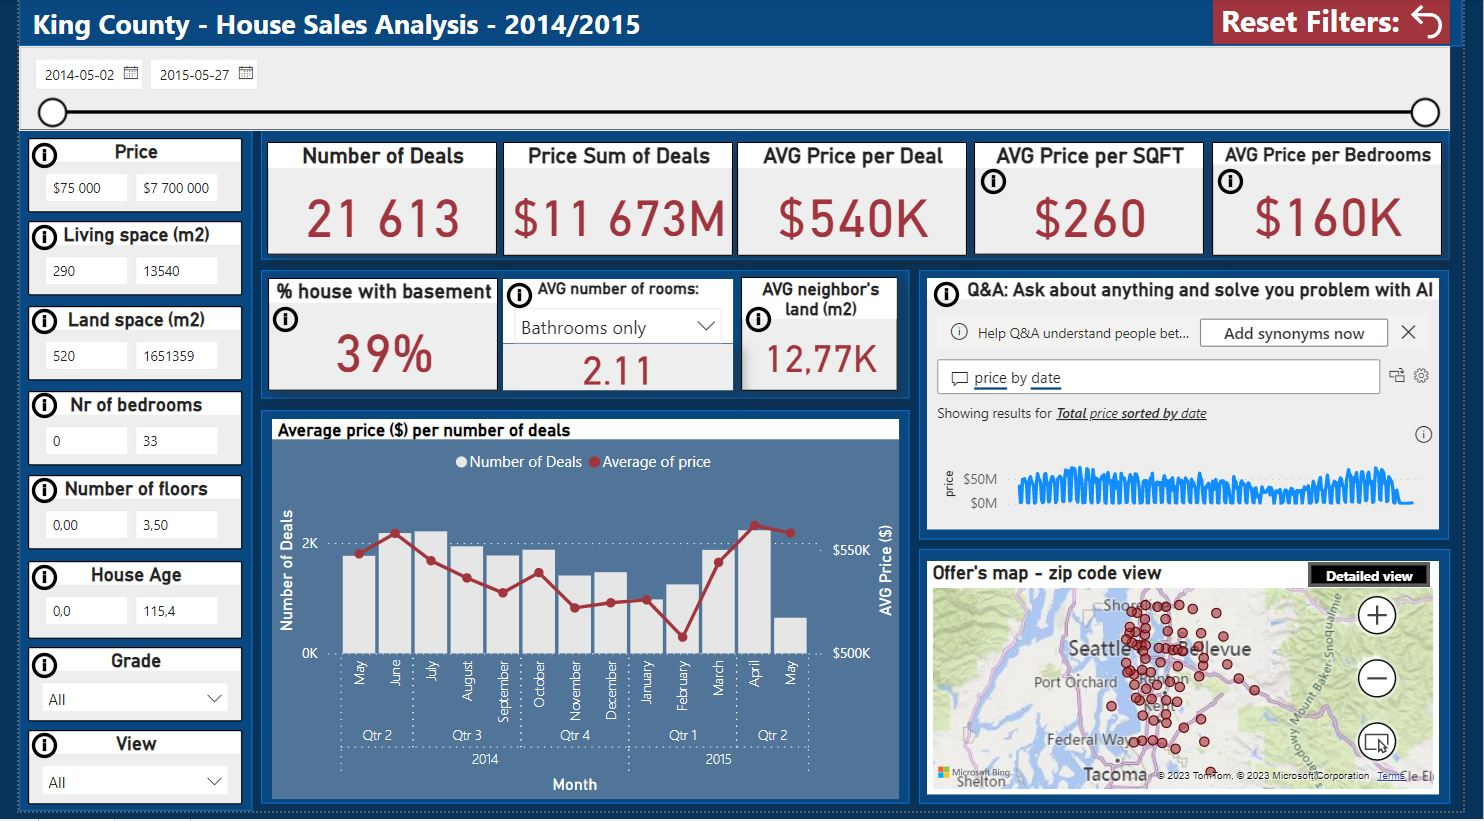

Layout of this report page (visuals, bound fields, positions):
{"tool":"powerbi","page":{"name":"Page 1","canvas":[1280,720],"ordinal":0},"visuals":[{"type":"group","id":"g1","title":"T1","box":[0,122.1,49.5,34.1],"z":0,"group":"g16"},{"type":"actionButton","box":[6.9,123.2,34.2,30.8],"z":0,"group":"g1"},{"type":"actionButton","box":[848.6,146,34.2,30.8],"z":0,"group":"g9"},{"type":"actionButton","box":[1058.3,146,34.2,30.8],"z":0,"group":"g10"},{"type":"actionButton","box":[6.9,195.8,34.2,30.8],"z":0,"group":"g2"},{"type":"actionButton","box":[806.9,245.8,34.2,30.8],"z":0,"group":"g14"},{"type":"actionButton","box":[427.9,247,34.2,30.8],"z":0,"group":"g13"},{"type":"actionButton","box":[220.8,268,34.2,30.8],"z":0,"group":"g11"},{"type":"actionButton","box":[640.2,268,34.2,30.8],"z":0,"group":"g12"},{"type":"actionButton","box":[6.9,270.1,34.2,30.8],"z":0,"group":"g3"},{"type":"actionButton","box":[6.9,345.1,34.2,30.8],"z":0,"group":"g4"},{"type":"actionButton","box":[6.9,420.1,34.2,30.8],"z":0,"group":"g5"},{"type":"shape","box":[797.7,487.2,470.5,225.9],"z":0},{"type":"actionButton","box":[6.9,497.1,34.2,30.8],"z":0,"group":"g6"},{"type":"map","title":"Offer''s map - zip code view","fields":{"Category":["_Main_DataSource.zipcode"]},"box":[805.5,498.1,453.8,207.3],"z":0,"group":"g15"},{"type":"actionButton","box":[6.9,575,34.2,30.8],"z":0,"group":"g7"},{"type":"actionButton","box":[6.9,646,34.2,30.8],"z":0,"group":"g8"},{"type":"card","fields":{"Values":["_Main_DataSource._sample_text"]},"box":[0,122.1,49.5,34.1],"z":1000,"group":"g1"},{"type":"card","fields":{"Values":["_Main_DataSource._sample_text"]},"box":[841.7,146,49.5,34.1],"z":1000,"group":"g9"},{"type":"card","fields":{"Values":["_Main_DataSource._sample_text"]},"box":[1051.4,146,49.5,34.1],"z":1000,"group":"g10"},{"type":"group","id":"g2","title":"T2","box":[0,194.7,49.5,34.1],"z":1000,"group":"g16"},{"type":"card","fields":{"Values":["_Main_DataSource._sample_text"]},"box":[0,194.7,49.5,34.1],"z":1000,"group":"g2"},{"type":"shape","box":[797.7,240.1,470.4,239],"z":1000},{"type":"card","fields":{"Values":["_Main_DataSource._sample_text"]},"box":[800,245.8,49.5,34.1],"z":1000,"group":"g14"},{"type":"card","fields":{"Values":["_Main_DataSource._sample_text"]},"box":[421,247,49.5,34.1],"z":1000,"group":"g13"},{"type":"card","fields":{"Values":["_Main_DataSource._sample_text"]},"box":[213.9,268,49.5,34.1],"z":1000,"group":"g11"},{"type":"card","fields":{"Values":["_Main_DataSource._sample_text"]},"box":[633.3,268,49.5,34.1],"z":1000,"group":"g12"},{"type":"card","fields":{"Values":["_Main_DataSource._sample_text"]},"box":[0,269,49.5,34.1],"z":1000,"group":"g3"},{"type":"card","fields":{"Values":["_Main_DataSource._sample_text"]},"box":[0,344,49.5,34.1],"z":1000,"group":"g4"},{"type":"card","fields":{"Values":["_Main_DataSource._sample_text"]},"box":[0,419,49.5,34.1],"z":1000,"group":"g5"},{"type":"card","fields":{"Values":["_Main_DataSource._sample_text"]},"box":[0,496,49.5,34.1],"z":1000,"group":"g6"},{"type":"actionButton","box":[1143.1,498.6,108.4,21.7],"z":1000,"group":"g15"},{"type":"card","fields":{"Values":["_Main_DataSource._sample_text"]},"box":[0,575,49.5,34.1],"z":1000,"group":"g7"},{"type":"card","fields":{"Values":["_Main_DataSource._sample_text"]},"box":[0,646,49.5,34.1],"z":1000,"group":"g8"},{"type":"shape","box":[214.2,240.1,574.9,114.1],"z":2000},{"type":"group","id":"g3","title":"T3","box":[0,269,49.5,34.1],"z":2000,"group":"g16"},{"type":"group","id":"g4","title":"T4","box":[0,344,49.5,34.1],"z":3000,"group":"g16"},{"type":"shape","box":[214.2,364.5,574.7,348.7],"z":3000},{"type":"shape","box":[214.2,115.9,1054.1,114.9],"z":4000},{"type":"group","id":"g5","title":"T5","box":[0,419,50,33.3],"z":4000,"group":"g16"},{"type":"shape","box":[0,116.3,207.3,603.6],"z":5000},{"type":"group","id":"g6","title":"T6","box":[0,496,50,33.3],"z":5000,"group":"g16"},{"type":"shape","title":"r","box":[0,0,1280,41.8],"z":6000},{"type":"group","id":"g7","title":"T7","box":[0,575,49.5,34.1],"z":6000,"group":"g16"},{"type":"slicer","fields":{"Values":["_Main_DataSource.date"]},"box":[0,41.7,1268.8,75],"z":7000},{"type":"group","id":"g8","title":"T8","box":[0,646,49.5,34.1],"z":7000,"group":"g16"},{"type":"group","id":"g9","title":"T9","box":[841.7,146,50,34.7],"z":8000,"group":"g16"},{"type":"slicer","title":"House Age","fields":{"Values":["_Main_DataSource.house_age"]},"box":[8.1,498.1,190.1,68.8],"z":8000},{"type":"group","id":"g10","title":"T10","box":[1051.4,146,50,34.7],"z":9000,"group":"g16"},{"type":"slicer","title":"View","fields":{"Values":["_Main_DataSource.view"]},"box":[8.1,647.7,190.1,65.7],"z":9000},{"type":"slicer","title":"Living space (m2)","fields":{"Values":["_Main_DataSource.sqft_living"]},"box":[8.1,197.2,190.1,65.7],"z":10000},{"type":"group","id":"g11","title":"T11","box":[213.9,268,50,34.7],"z":10000,"group":"g16"},{"type":"slicer","title":"Price","fields":{"Values":["_Main_DataSource.price"]},"box":[8.1,123.3,190.1,65.7],"z":11000},{"type":"group","id":"g12","title":"T12","box":[633.3,268,50,34.7],"z":11000,"group":"g16"},{"type":"group","id":"g13","title":"T13","box":[421,247,50,34.7],"z":12000,"group":"g16"},{"type":"slicer","title":"Nr of bedrooms","fields":{"Values":["_Main_DataSource.bedrooms"]},"box":[8.1,347.5,190.1,65.7],"z":12000},{"type":"group","id":"g14","title":"T14","box":[800,245.8,50,34.7],"z":12500,"group":"g16"},{"type":"slicer","title":"Grade","fields":{"Values":["_Main_DataSource.grade"]},"box":[8.1,574.9,190.1,65.7],"z":13000},{"type":"slicer","title":"Number of floors","fields":{"Values":["_Main_DataSource.floors"]},"box":[8.1,422.3,190.1,65.7],"z":14000},{"type":"card","title":"Number of Deals","fields":{"Values":["CountNonNull(_Main_DataSource.id)"]},"box":[220.1,126.9,204,100.1],"z":15000},{"type":"card","title":"Price Sum of Deals","fields":{"Values":["Sum(_Main_DataSource.price)"]},"box":[428.8,126.9,204,100.7],"z":16000},{"type":"card","title":"AVG Price per Deal","fields":{"Values":["Avg(_Main_DataSource.price)"]},"box":[637,126.9,204,100.7],"z":17000},{"type":"card","title":"AVG Price per SQFT","fields":{"Values":["_Main_DataSource._PriceSQFTLiving_AVG"]},"box":[847.1,126.9,204,99.7],"z":18000},{"type":"card","title":"AVG Price per Bedrooms","fields":{"Values":["_Main_DataSource.PriceBedrooms_AVG"]},"box":[1058.2,126.9,204,100.7],"z":19000},{"type":"lineClusteredColumnComboChart","title":"Average price ($) per number of deals","fields":{"Category":["_Main_DataSource.date.Variation.Date Hierarchy.Year","_Main_DataSource.date.Variation.Date Hierarchy.Quarter","_Main_DataSource.date.Variation.Date Hierarchy.Month","_Main_DataSource.date.Variation.Date Hierarchy.Day"],"Y2":["Avg(_Main_DataSource.price)"],"Y":["CountNonNull(_Main_DataSource.id)"]},"box":[224,372.3,556,336.9],"z":20000},{"type":"card","title":"% house with basement","fields":{"Values":["_Main_DataSource._%Basement"]},"box":[221.1,247,204,100.1],"z":21000},{"type":"card","title":"AVG neighbor''s land  (m2)","fields":{"Values":["Avg(_Main_DataSource.sqft_lot15)"]},"box":[640.5,246.6,139.5,101.2],"z":22000},{"type":"card","title":"AVG Price per Deal","fields":{"Values":["_Main_DataSource._%Rooms"]},"box":[429.3,305.5,204.3,41.3],"z":23000},{"type":"slicer","title":"AVG number of rooms:","fields":{"Values":["_Add_RoomOpts.Opt"]},"box":[429.2,248.6,204.2,56.9],"z":24000},{"type":"slicer","title":"Land space (m2)","fields":{"Values":["_Main_DataSource.sqft_lot"]},"box":[7.7,272.1,189.8,65.8],"z":25000},{"type":"qnaVisual","title":"Q&A: Ask about anything and solve you problem with AI","box":[805.5,247.6,453.8,223],"z":26000},{"type":"group","id":"g15","title":"Map - ZipCode","box":[805.5,498.1,453.8,207.3],"z":28000},{"type":"actionButton","box":[1058.3,0,209.7,40.3],"z":29000},{"type":"group","id":"g16","title":"Tooltips","box":[0,122.1,1101.4,557.9],"z":30000}]}

Visuals, with their boxes in screenshot pixels (x1, y1, x2, y2), scaled from the page's 1280x720 canvas onto the 1484x821 screenshot:
"T1" group: bbox=(0, 139, 57, 178)
actionButton: bbox=(8, 140, 48, 176)
actionButton: bbox=(984, 166, 1023, 202)
actionButton: bbox=(1227, 166, 1267, 202)
actionButton: bbox=(8, 223, 48, 258)
actionButton: bbox=(935, 280, 975, 315)
actionButton: bbox=(496, 282, 536, 317)
actionButton: bbox=(256, 306, 296, 341)
actionButton: bbox=(742, 306, 782, 341)
actionButton: bbox=(8, 308, 48, 343)
actionButton: bbox=(8, 394, 48, 429)
actionButton: bbox=(8, 479, 48, 514)
shape: bbox=(925, 556, 1470, 813)
actionButton: bbox=(8, 567, 48, 602)
"Offer''s map - zip code view" map: bbox=(934, 568, 1460, 804)
actionButton: bbox=(8, 656, 48, 691)
actionButton: bbox=(8, 737, 48, 772)
card - _Main_DataSource._sample_text: bbox=(0, 139, 57, 178)
card - _Main_DataSource._sample_text: bbox=(976, 166, 1033, 205)
card - _Main_DataSource._sample_text: bbox=(1219, 166, 1276, 205)
"T2" group: bbox=(0, 222, 57, 261)
card - _Main_DataSource._sample_text: bbox=(0, 222, 57, 261)
shape: bbox=(925, 274, 1470, 546)
card - _Main_DataSource._sample_text: bbox=(928, 280, 985, 319)
card - _Main_DataSource._sample_text: bbox=(488, 282, 545, 321)
card - _Main_DataSource._sample_text: bbox=(248, 306, 305, 344)
card - _Main_DataSource._sample_text: bbox=(734, 306, 792, 344)
card - _Main_DataSource._sample_text: bbox=(0, 307, 57, 346)
card - _Main_DataSource._sample_text: bbox=(0, 392, 57, 431)
card - _Main_DataSource._sample_text: bbox=(0, 478, 57, 517)
card - _Main_DataSource._sample_text: bbox=(0, 566, 57, 604)
actionButton: bbox=(1325, 569, 1451, 593)
card - _Main_DataSource._sample_text: bbox=(0, 656, 57, 695)
card - _Main_DataSource._sample_text: bbox=(0, 737, 57, 776)
shape: bbox=(248, 274, 915, 404)
"T3" group: bbox=(0, 307, 57, 346)
"T4" group: bbox=(0, 392, 57, 431)
shape: bbox=(248, 416, 915, 813)
shape: bbox=(248, 132, 1470, 263)
"T5" group: bbox=(0, 478, 58, 516)
shape: bbox=(0, 133, 240, 820)
"T6" group: bbox=(0, 566, 58, 604)
"r" shape: bbox=(0, 0, 1483, 48)
"T7" group: bbox=(0, 656, 57, 695)
slicer - _Main_DataSource.date: bbox=(0, 48, 1471, 133)
"T8" group: bbox=(0, 737, 57, 776)
"T9" group: bbox=(976, 166, 1034, 206)
"House Age" slicer: bbox=(9, 568, 230, 646)
"T10" group: bbox=(1219, 166, 1277, 206)
"View" slicer: bbox=(9, 739, 230, 813)
"Living space (m2)" slicer: bbox=(9, 225, 230, 300)
"T11" group: bbox=(248, 306, 306, 345)
"Price" slicer: bbox=(9, 141, 230, 216)
"T12" group: bbox=(734, 306, 792, 345)
"T13" group: bbox=(488, 282, 546, 321)
"Nr of bedrooms" slicer: bbox=(9, 396, 230, 471)
"T14" group: bbox=(928, 280, 985, 320)
"Grade" slicer: bbox=(9, 656, 230, 730)
"Number of floors" slicer: bbox=(9, 482, 230, 556)
"Number of Deals" card: bbox=(255, 145, 492, 259)
"Price Sum of Deals" card: bbox=(497, 145, 734, 260)
"AVG Price per Deal" card: bbox=(739, 145, 975, 260)
"AVG Price per SQFT" card: bbox=(982, 145, 1219, 258)
"AVG Price per Bedrooms" card: bbox=(1227, 145, 1463, 260)
"Average price ($) per number of deals" lineClusteredColumnComboChart: bbox=(260, 425, 904, 809)
"% house with basement" card: bbox=(256, 282, 493, 396)
"AVG neighbor''s land  (m2)" card: bbox=(743, 281, 904, 397)
"AVG Price per Deal" card: bbox=(498, 348, 735, 395)
"AVG number of rooms:" slicer: bbox=(498, 283, 734, 348)
"Land space (m2)" slicer: bbox=(9, 310, 229, 385)
"Q&A: Ask about anything and solve you problem with AI" qnaVisual: bbox=(934, 282, 1460, 537)
"Map - ZipCode" group: bbox=(934, 568, 1460, 804)
actionButton: bbox=(1227, 0, 1470, 46)
"Tooltips" group: bbox=(0, 139, 1277, 775)
